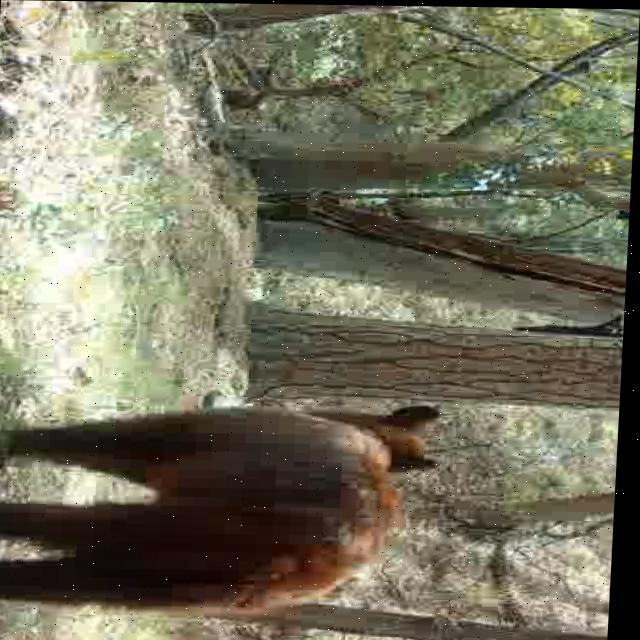bear face: (0, 399, 455, 616), (511, 314, 627, 337)
